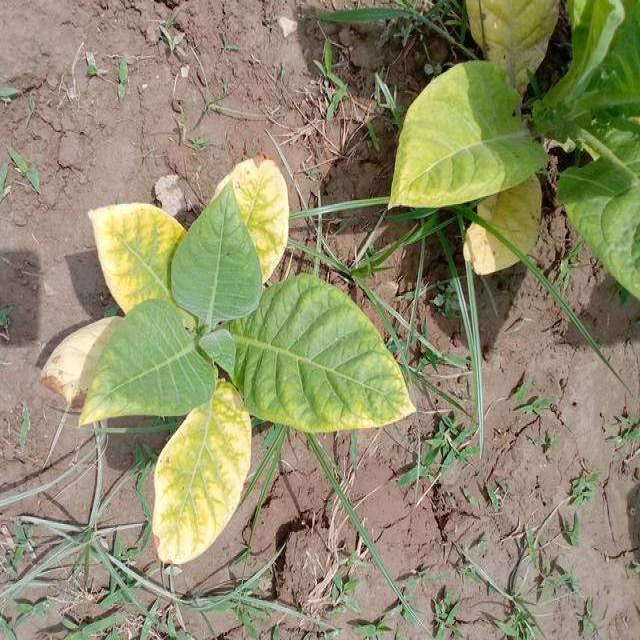crop: (51, 155, 413, 575), (388, 0, 638, 302)
